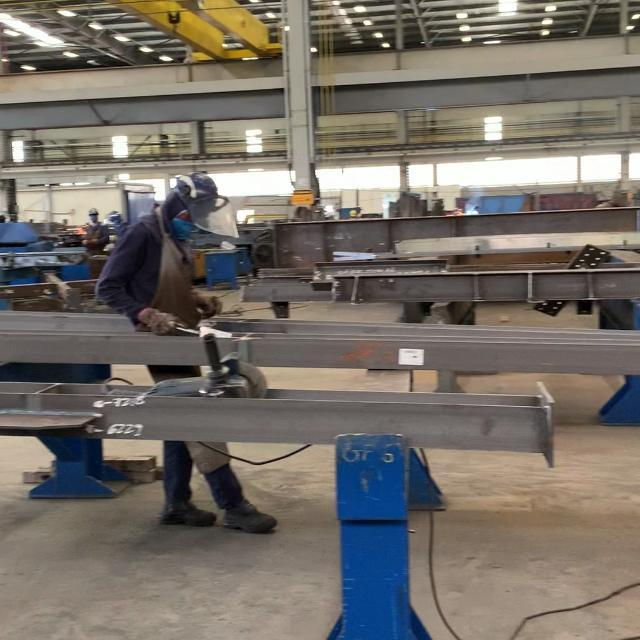eye-glass: (190, 192, 240, 238)
face-shield: (135, 306, 186, 336), (188, 294, 225, 317)
glove: (174, 171, 218, 197)
mask: (95, 168, 224, 336)
safety-shoe: (224, 499, 279, 537), (159, 498, 220, 529)
